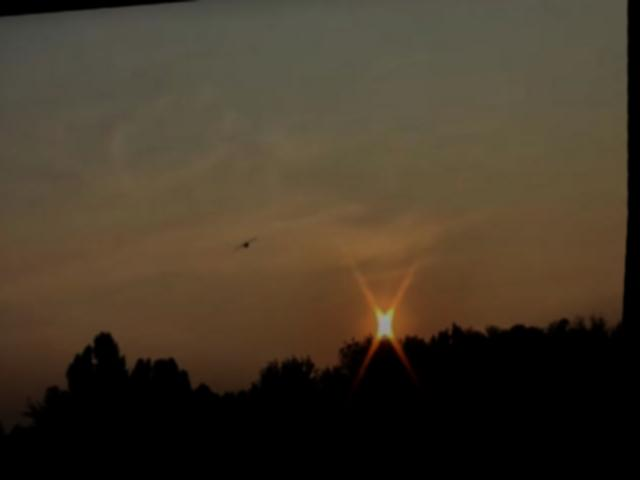iha: (238, 238, 259, 251)
